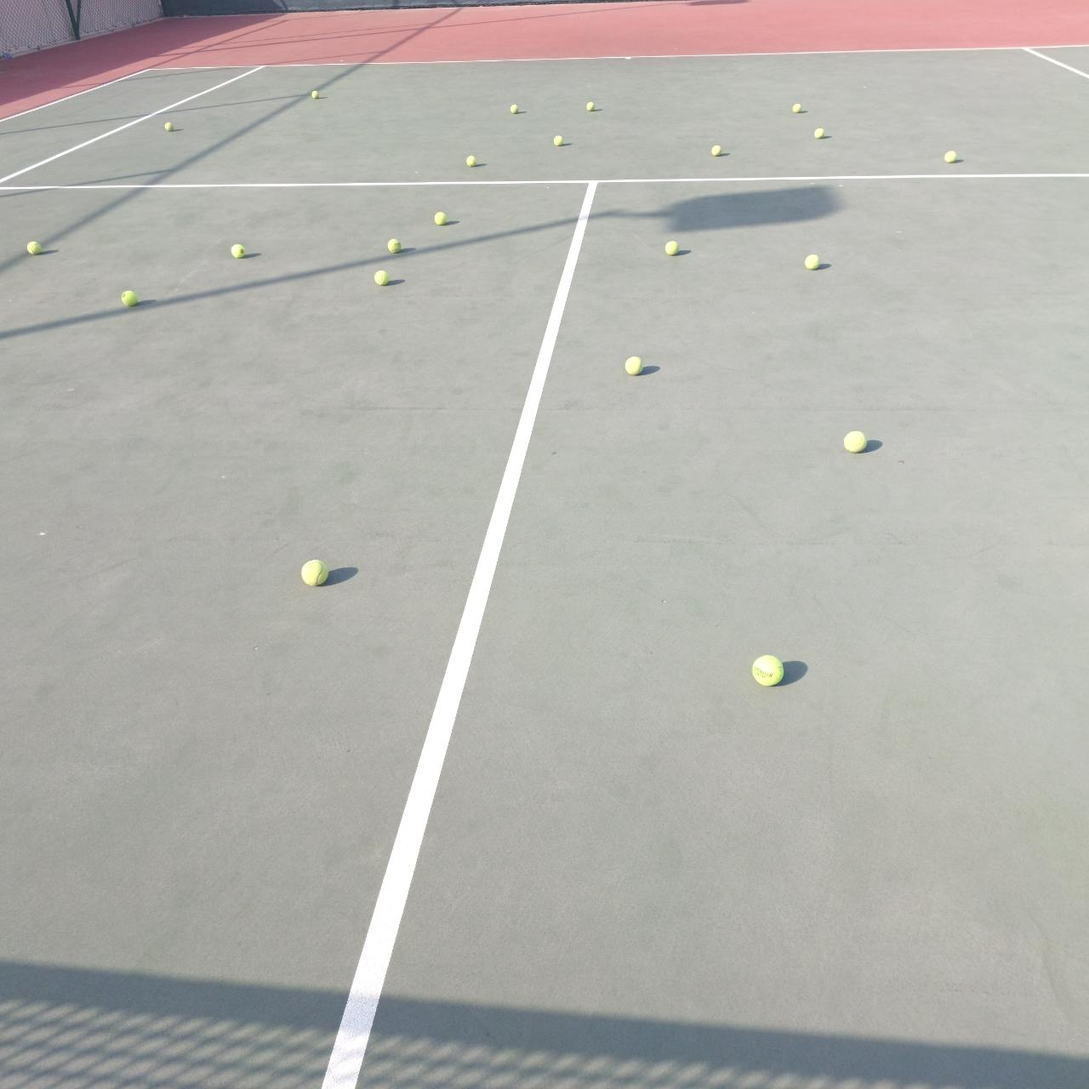tennis-ball: (752, 652, 786, 687), (301, 556, 330, 586), (844, 428, 869, 453), (624, 353, 644, 375), (122, 288, 140, 306), (805, 251, 821, 270), (374, 270, 390, 286), (231, 242, 246, 259), (665, 238, 680, 254), (26, 241, 42, 256), (434, 211, 448, 226), (388, 238, 402, 253), (944, 150, 957, 164), (711, 143, 723, 157), (553, 135, 564, 146), (466, 155, 476, 167), (814, 128, 825, 138), (586, 101, 596, 112), (792, 103, 802, 114), (510, 104, 519, 114), (165, 122, 174, 131), (311, 91, 319, 99)
